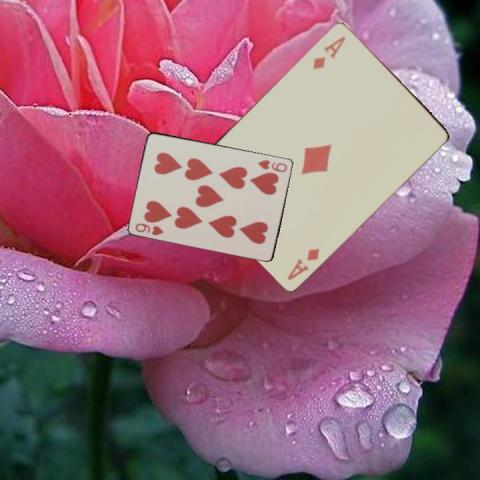9h: (133, 220, 165, 237), (255, 157, 288, 173)
Ad: (310, 32, 347, 70), (284, 244, 321, 281)
